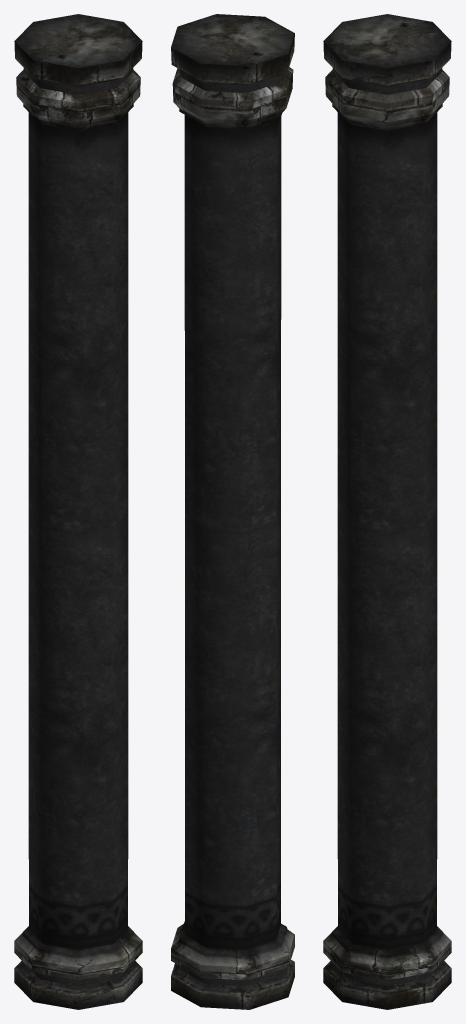
File: plain_tall.dae
3 renders of one model, left to right at view 1: azimuth 90°, elevation 25°; view 2: azimuth 150°, elevation 25°; view 3: azimuth 270°, elevation 25°, orthographic.
Visible parts, largest first — view 1: pCylinder2; view 2: pCylinder2; view 3: pCylinder2.
Part boxes in pixels (x1,y1,x2,y2): pCylinder2: [14, 14, 142, 1009]; pCylinder2: [171, 14, 294, 1009]; pCylinder2: [323, 14, 451, 1009].
Size of what is drawn, in the model's own units: 0.9859 by 8 by 0.9859.
